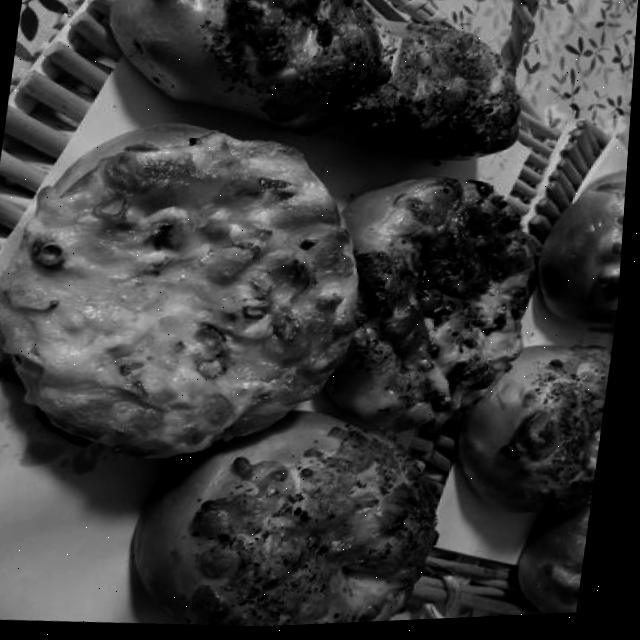三明治: (0, 104, 399, 478)
